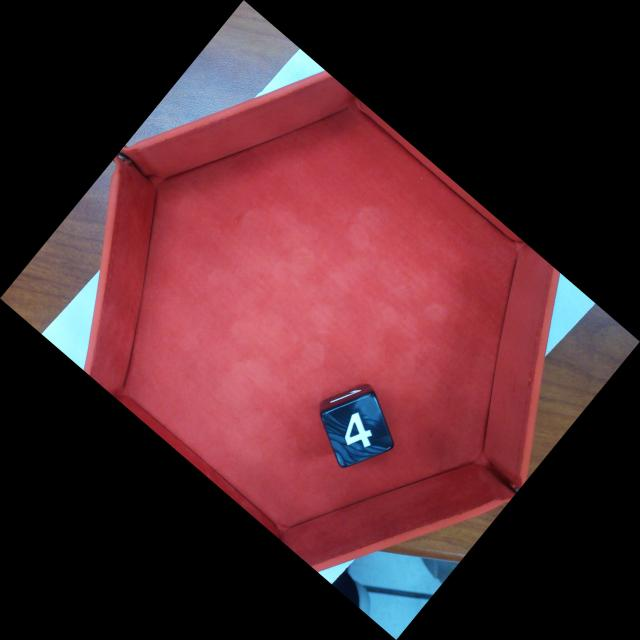dice: (325, 393, 396, 469)
